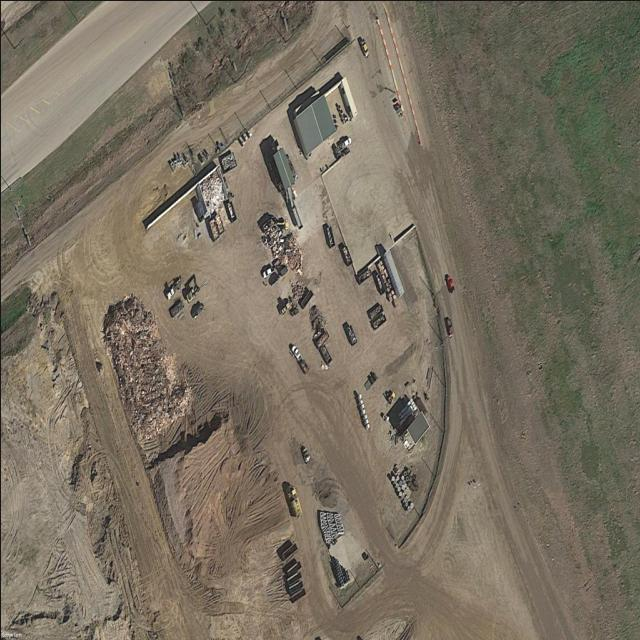dump_site: (251, 206, 315, 280), (199, 169, 228, 216)
